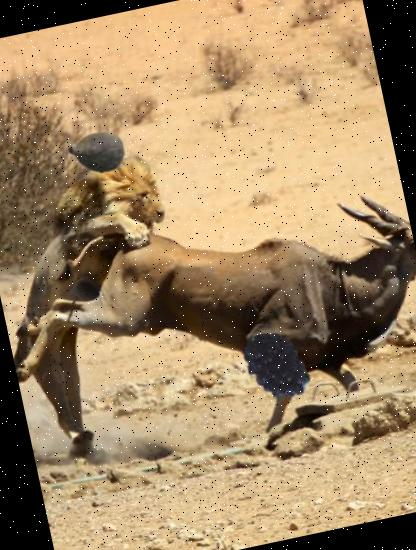Beetroot: (63, 118, 132, 187)
Mulberry: (232, 323, 320, 410)
